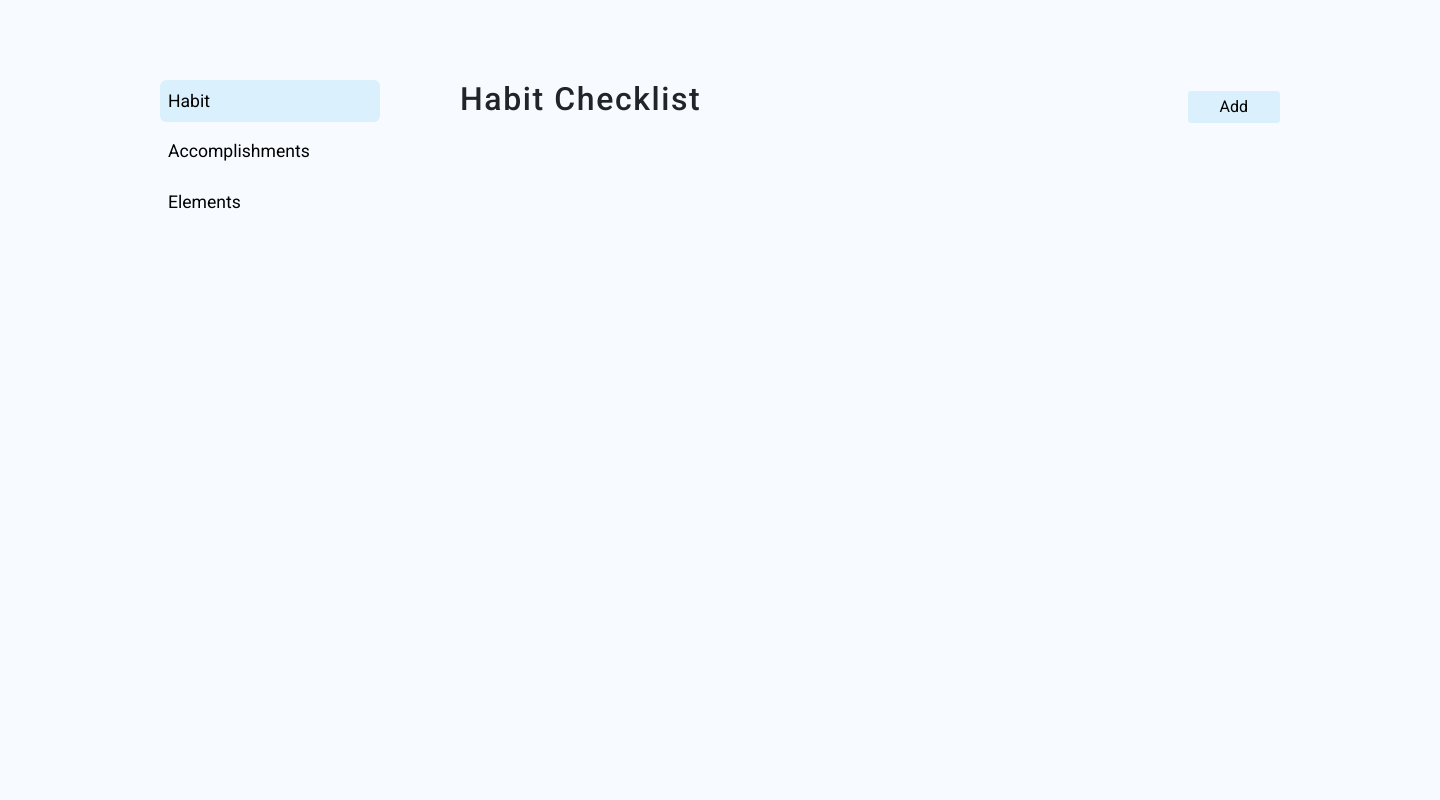
Test: Real Tests › Should display habit card and new habit is added
The image size is (1440, 800).
Click the button with id "habit-add-btn": (1235, 107) [1188,91,1281,123]
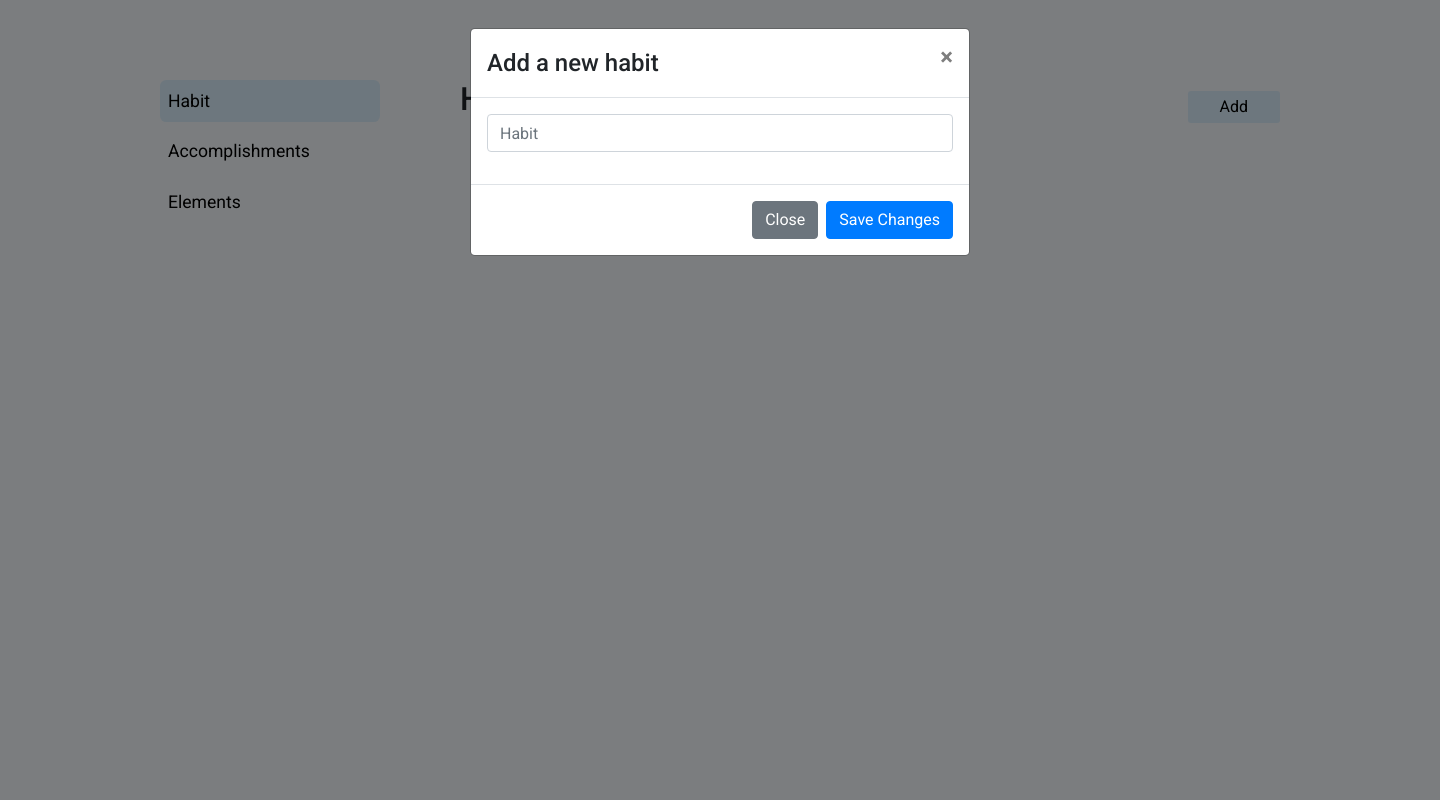
expect the text "Add a new habit" is shown: met, box [487,45,659,81]
In the field with placeholder "Habit": (720, 133) [487,114,953,152], type "Drink a cup of water"
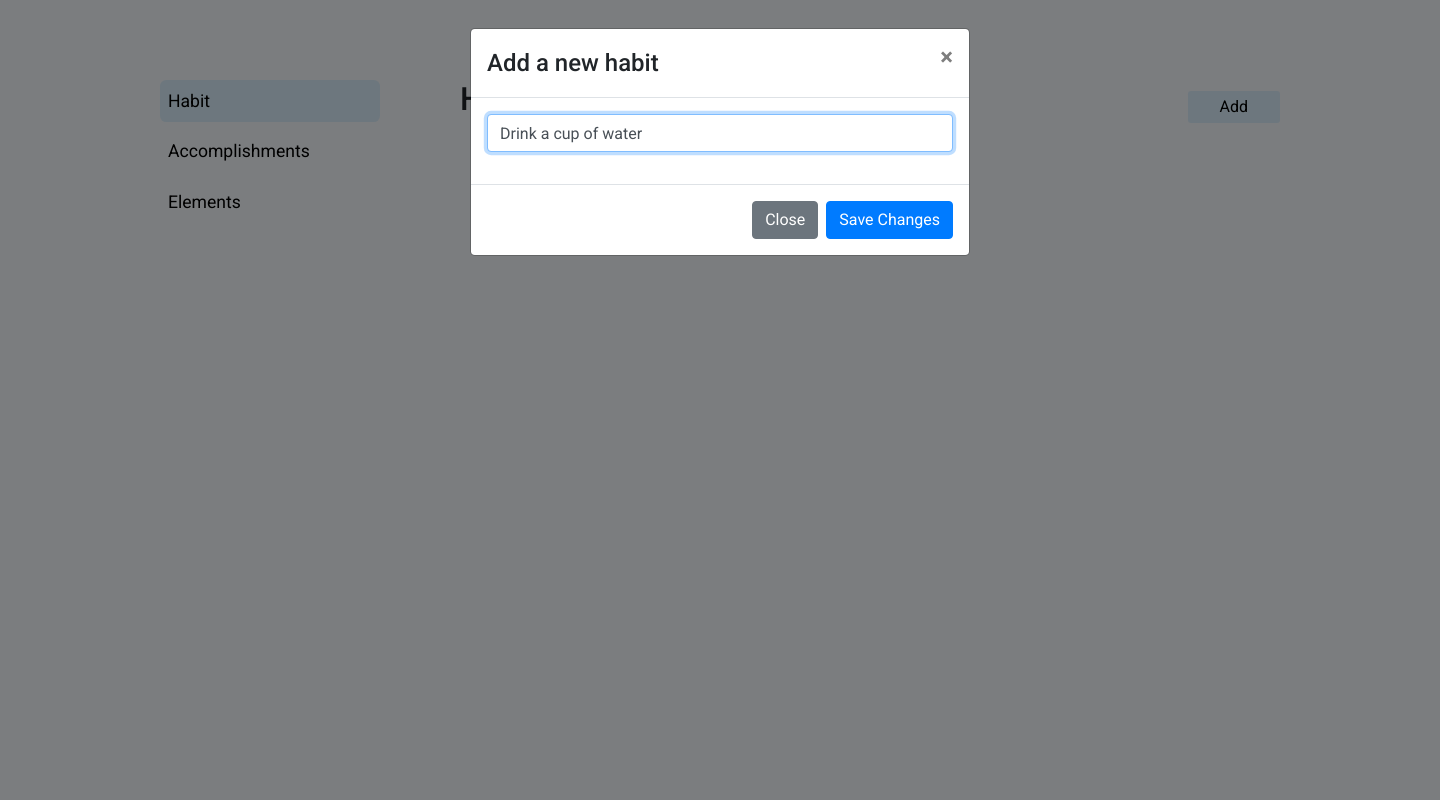
Click the button "Save Changes": (890, 220) [826,201,953,239]
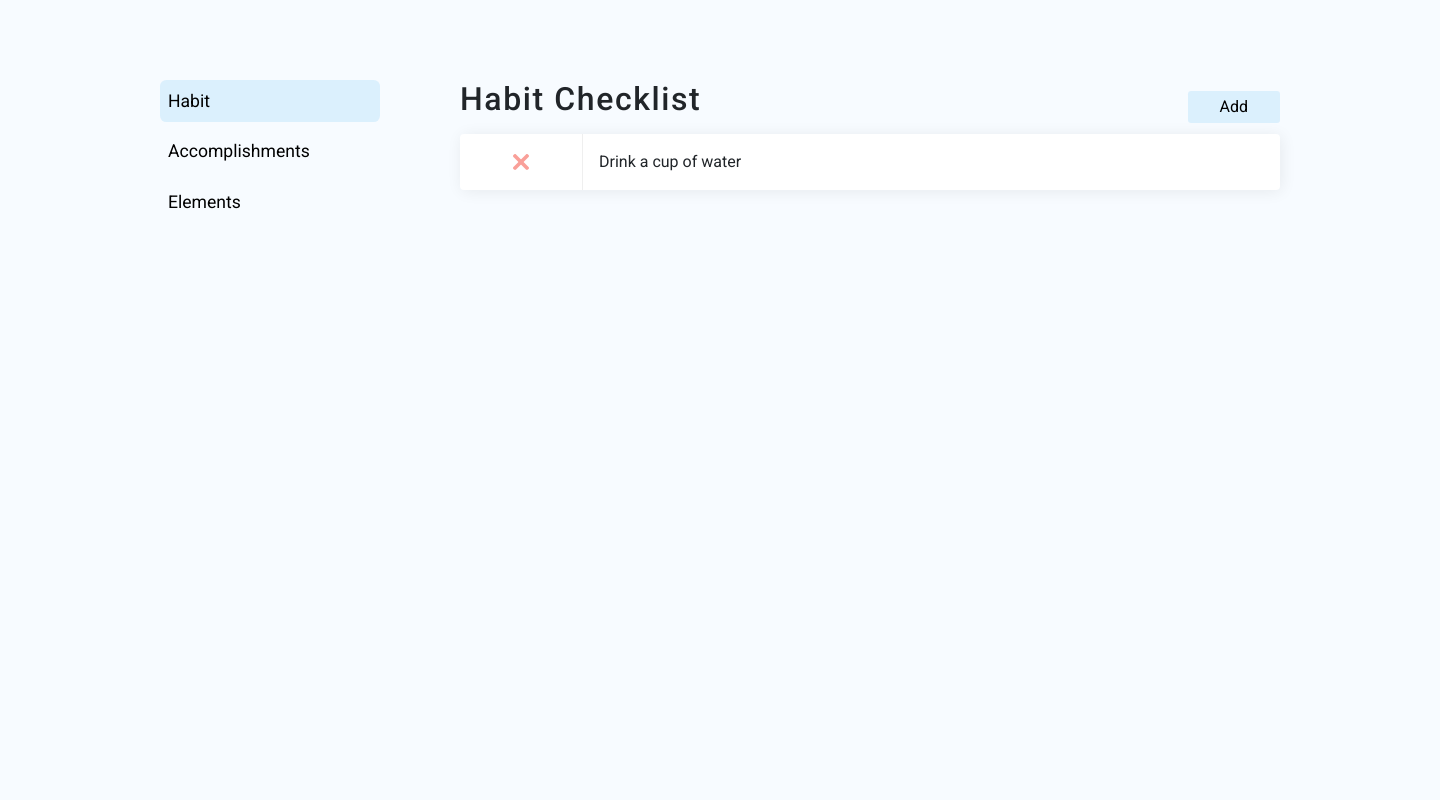
expect the text "Drink a cup of water" is shown: met, box [599,152,741,171]
